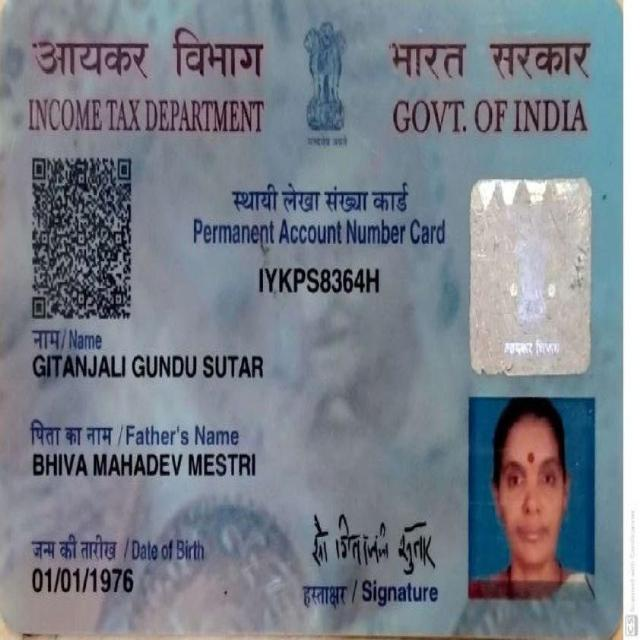pan_card: (2, 6, 619, 635)
